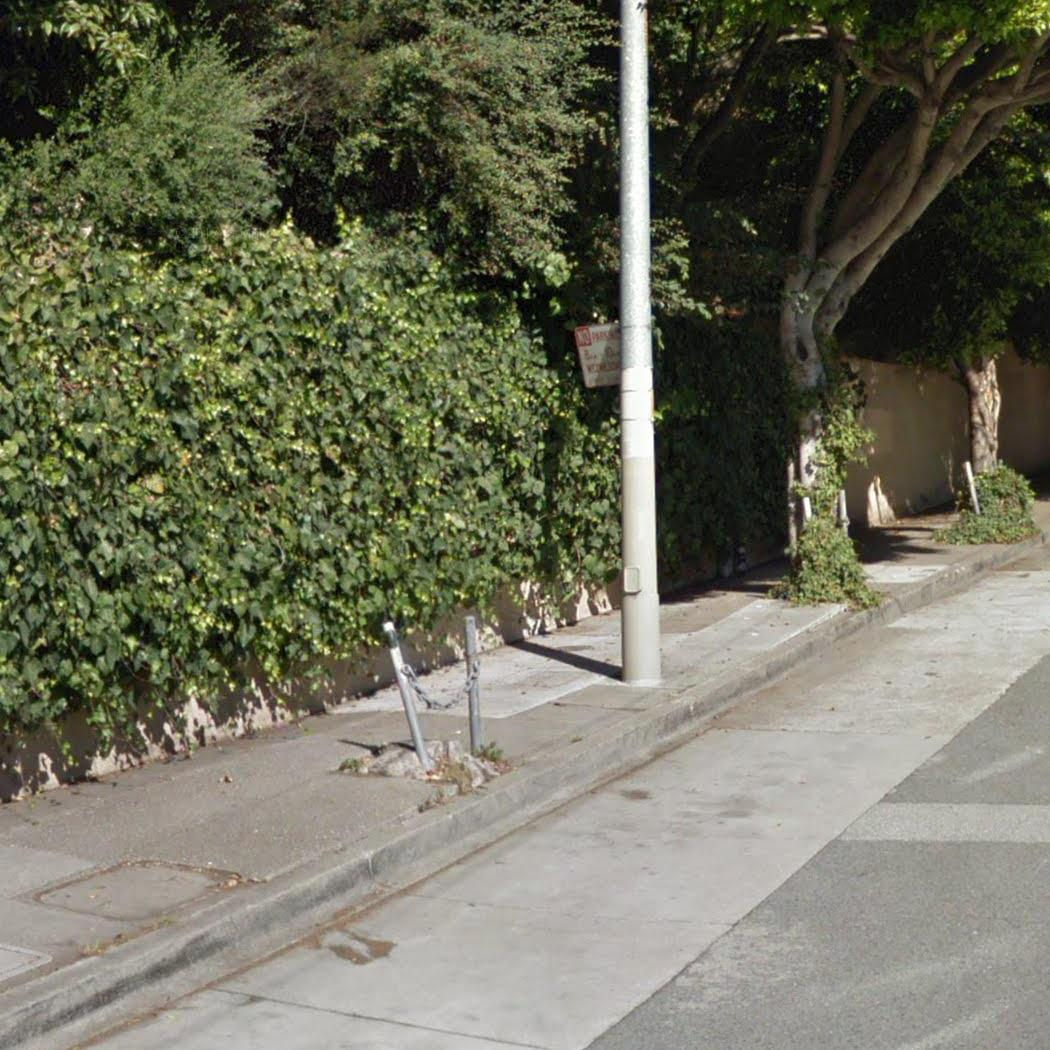No Parking: (573, 321, 625, 390)
